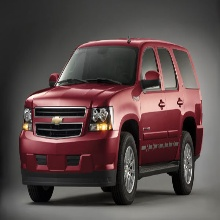no damage: (18, 37, 204, 206)
